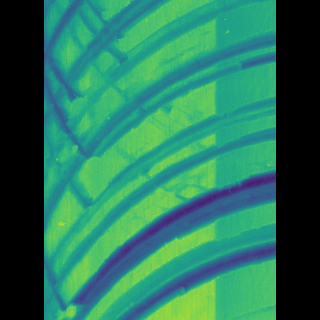Loch: (81, 95, 244, 294), (86, 165, 244, 319), (99, 26, 244, 159), (117, 219, 244, 320), (78, 0, 168, 93)
